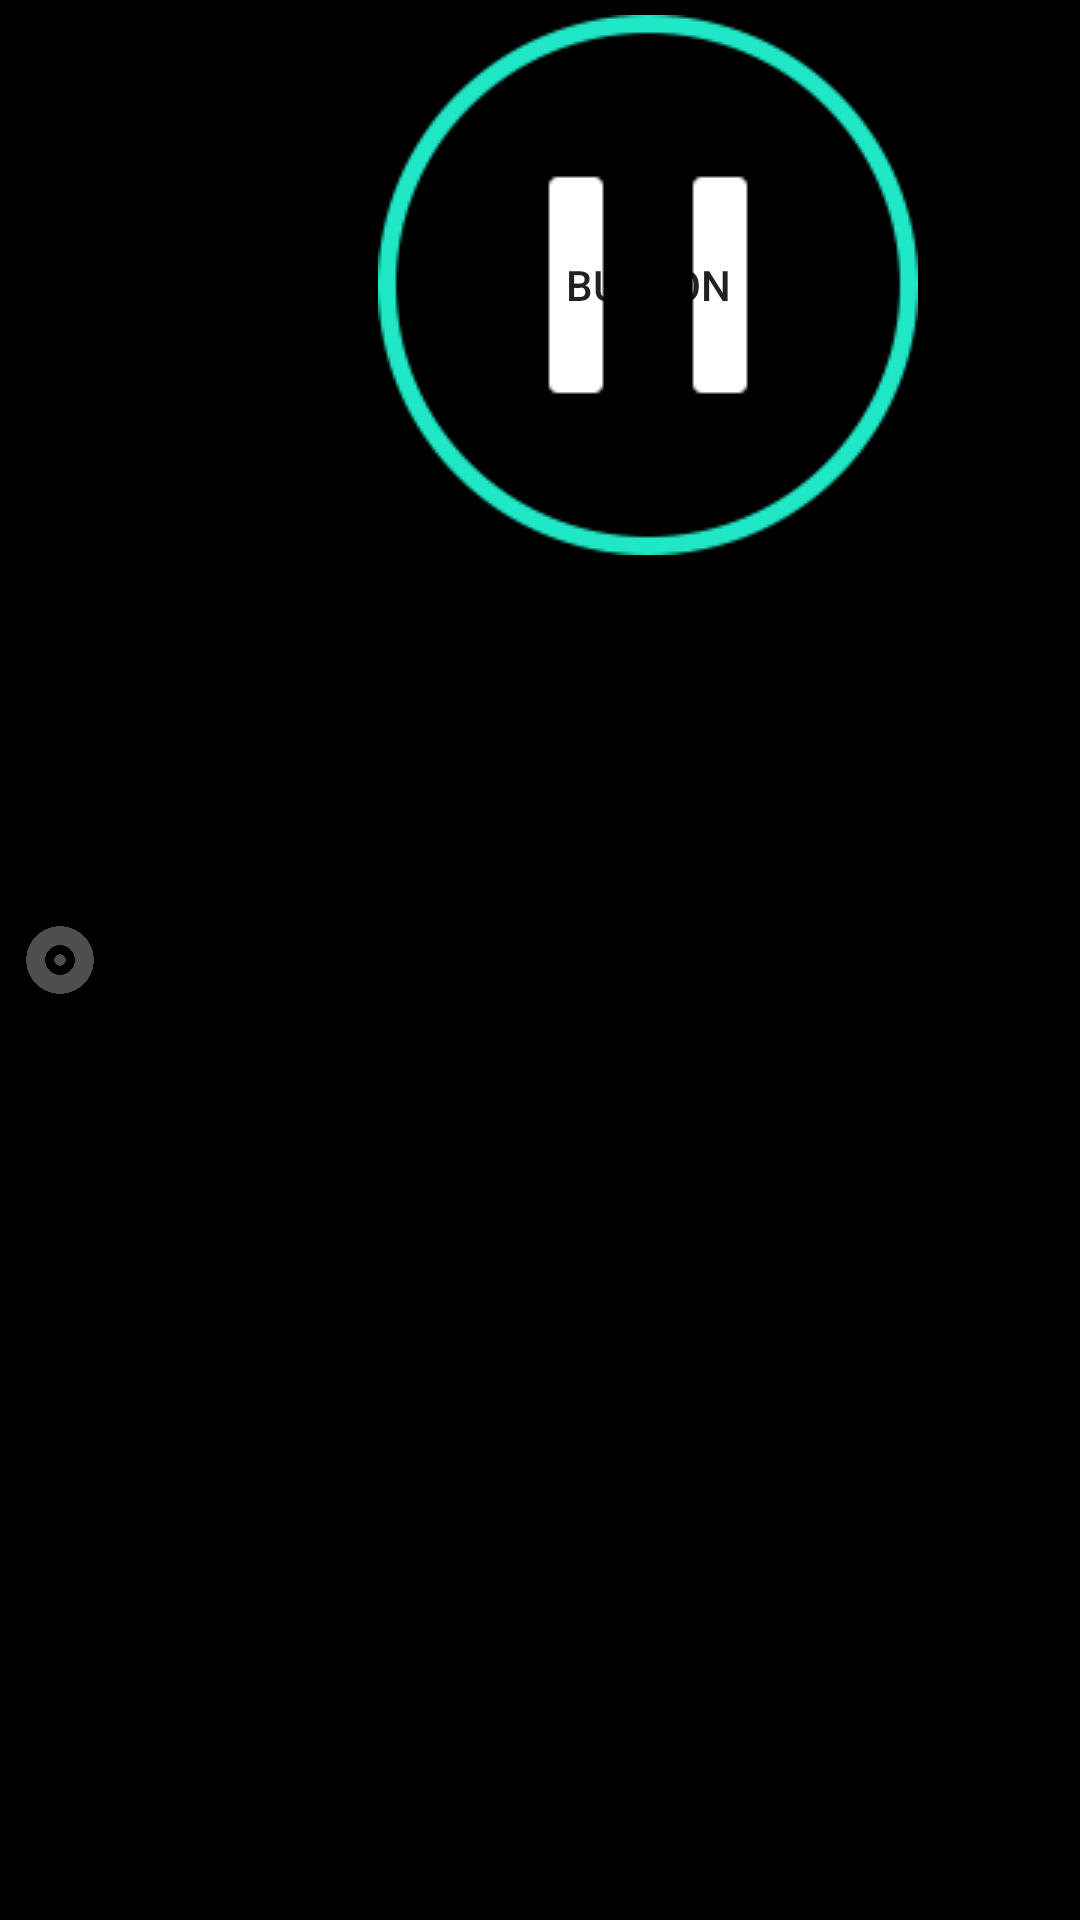

Icon bounding boxes for this 1080px x 1920px phone screenshot, format (x1, y1, x2, y2):
album artwork: (26, 926, 94, 994)
